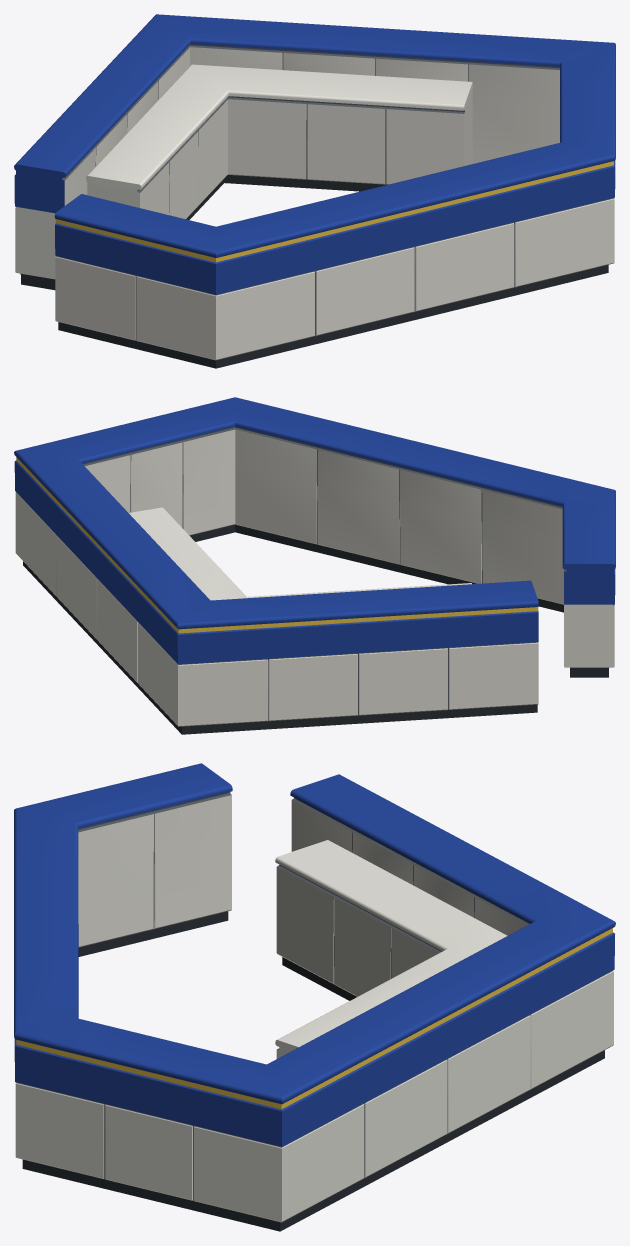
File: checkout-counter-shield-rounded.glb
3 renders of one model, top to bottom at view 1: azimuth 30°, elevation 25°; view 2: azimuth 150°, elevation 25°; view 3: azimuth 270°, elevation 25°, orthographic. The views are drawn at different scales.
Parts seen in each view (by area): view 1: shield-surround-0.001, shield-work-cabinet.001; view 2: shield-surround-0.001, shield-work-cabinet.001; view 3: shield-surround-0.001, shield-work-cabinet.001.
Part boxes in pixels (x1,y1,x2,y2): shield-surround-0.001: (14, 14, 615, 368); shield-work-cabinet.001: (86, 64, 472, 219); shield-surround-0.001: (14, 397, 615, 734); shield-work-cabinet.001: (129, 507, 471, 600); shield-surround-0.001: (14, 763, 615, 1231); shield-work-cabinet.001: (275, 840, 507, 1058).
Bounding box in the file's own units: 18.5 × 3.54 × 14.
